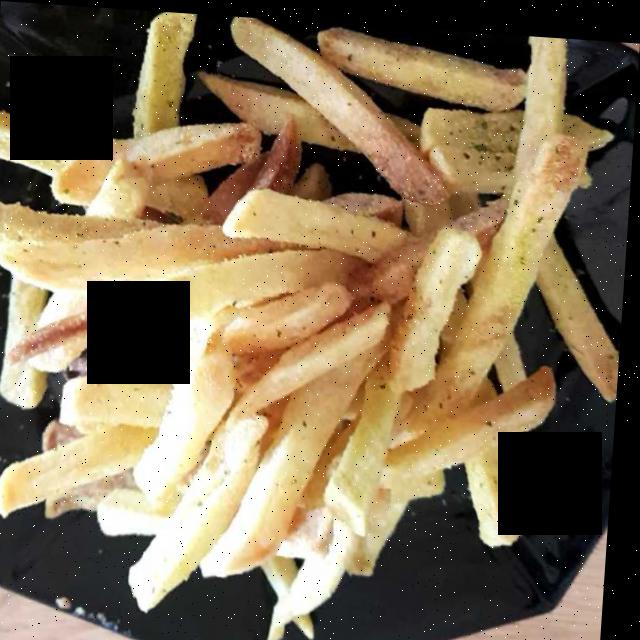chips-french-fries: (6, 26, 603, 616)
